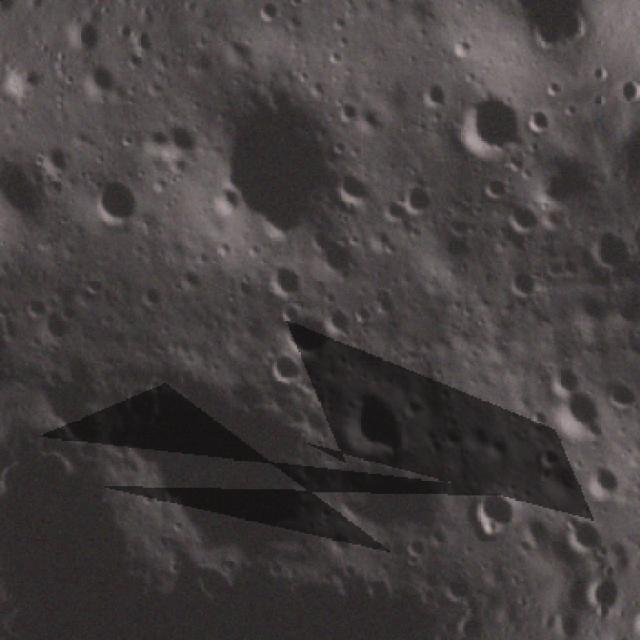crater: (106, 340, 340, 594), (183, 66, 368, 260), (26, 351, 117, 466), (322, 374, 418, 475), (446, 84, 539, 170), (0, 143, 60, 237), (272, 296, 343, 369), (84, 165, 153, 240), (303, 214, 366, 288), (462, 479, 528, 546), (576, 220, 639, 289), (548, 503, 608, 566), (153, 109, 212, 171), (496, 192, 559, 248), (564, 282, 621, 338), (391, 169, 446, 225), (330, 165, 384, 220), (513, 92, 569, 145), (28, 132, 82, 186), (260, 340, 312, 394), (551, 386, 604, 436), (578, 452, 627, 506), (408, 68, 455, 121), (8, 278, 62, 324), (260, 258, 311, 305), (512, 504, 558, 556), (500, 262, 548, 310), (79, 59, 126, 108), (30, 301, 78, 348), (597, 372, 640, 422), (543, 353, 586, 399), (475, 167, 519, 211), (367, 280, 408, 325), (168, 255, 209, 300), (127, 275, 170, 316), (443, 203, 483, 246), (528, 441, 570, 481), (250, 0, 296, 35), (332, 92, 370, 130), (347, 292, 379, 334)
